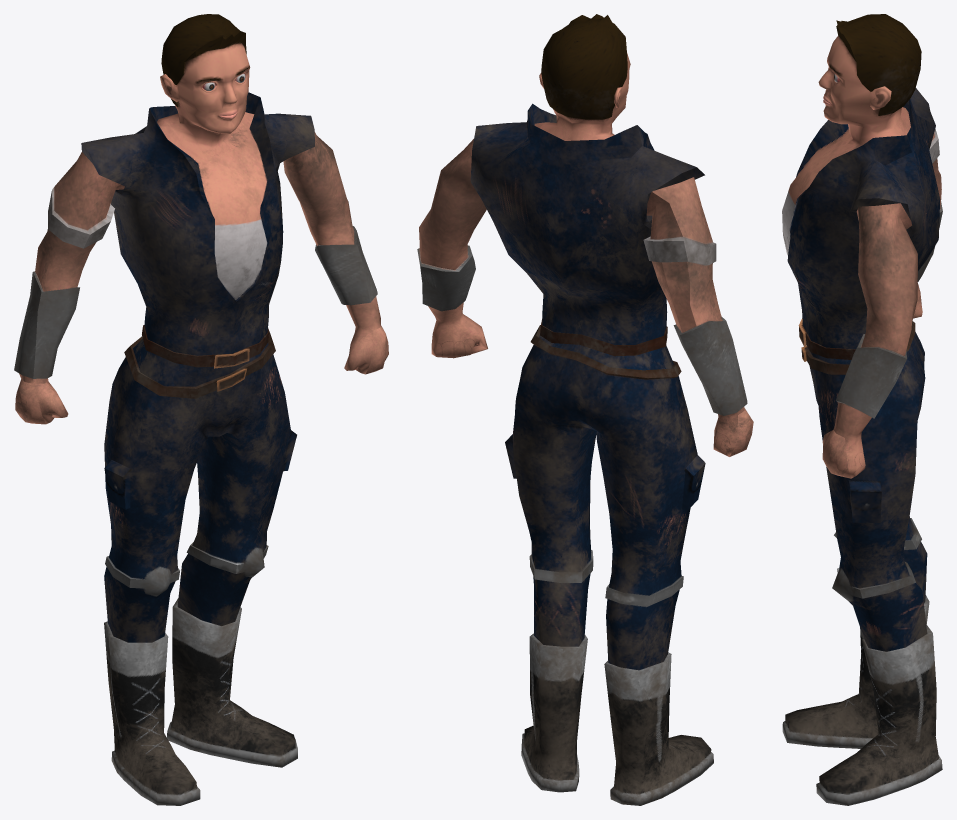
The model's file is Anim_abrir_puerta_ok_jugador.0037.obj.
3 renders of one model, left to right at view 1: azimuth 30°, elevation 25°; view 2: azimuth 150°, elevation 25°; view 3: azimuth 270°, elevation 25°, orthographic.
Parts seen in each view (by area): view 1: polySurface1; view 2: polySurface1; view 3: polySurface1.
Boxes of the visible parts, bbox=[...] form: polySurface1: bbox=[14, 14, 388, 805]; polySurface1: bbox=[417, 14, 753, 805]; polySurface1: bbox=[782, 14, 942, 805].
Bounding box in the file's own units: 4.63 × 9.65 × 1.87.
